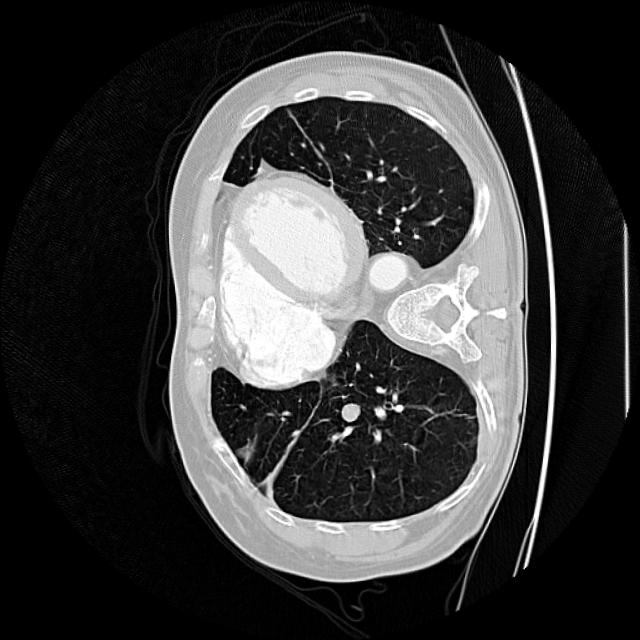nodule: (328, 392, 370, 435)
